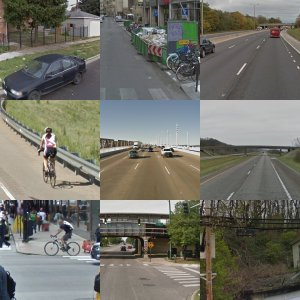汽車: (1, 51, 92, 98), (123, 135, 180, 169), (200, 33, 225, 65), (268, 25, 285, 42)
腳踏車: (31, 124, 65, 190), (40, 215, 83, 260), (167, 35, 200, 87)
行人穿越道: (154, 259, 199, 292), (99, 257, 147, 271)
